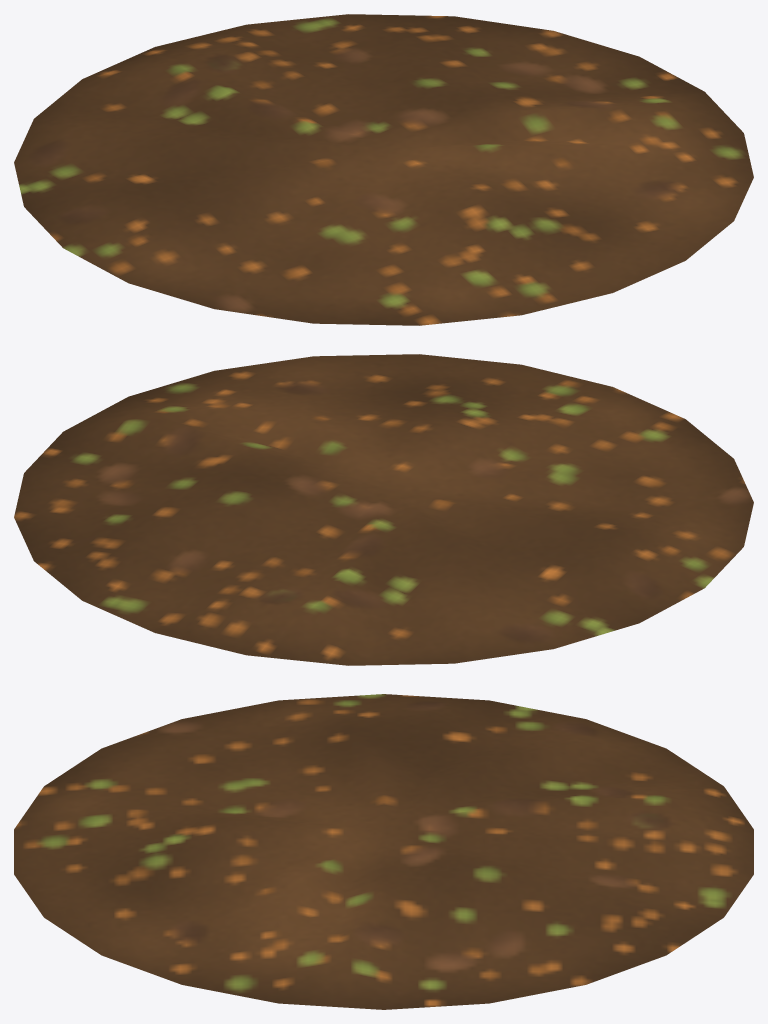
File: pot_fill_pulse_stew.glb
3 views of the same model, one above another, from view 1: azimuth 30°, elevation 25°; view 2: azimuth 150°, elevation 25°; view 3: azimuth 270°, elevation 25° (orthographic).
Parts seen in each view (by area): view 1: POT_FILL_PULSE_STEW; view 2: POT_FILL_PULSE_STEW; view 3: POT_FILL_PULSE_STEW.
Part boxes in pixels (box(x1,y1,x2,y2)): POT_FILL_PULSE_STEW: box(14, 14, 753, 325); POT_FILL_PULSE_STEW: box(14, 354, 753, 665); POT_FILL_PULSE_STEW: box(14, 694, 753, 1009).
Bounding box in the file's own units: 0.277 × 0.0293 × 0.2742.
Materials: 1 (1 with a texture image).
